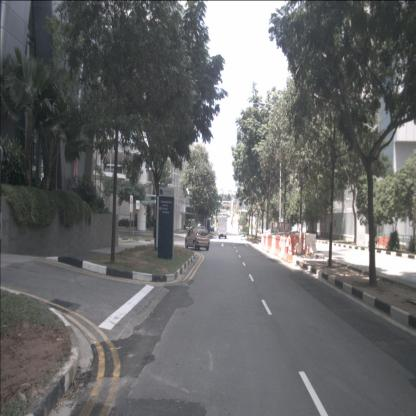barrier: (281, 234, 304, 254), (304, 233, 318, 254), (283, 238, 292, 263), (278, 236, 286, 259), (378, 236, 392, 248), (274, 236, 281, 257), (270, 235, 276, 254), (266, 235, 272, 253), (264, 236, 268, 252), (260, 234, 264, 250), (262, 236, 266, 251)
cone: (288, 245, 293, 264), (286, 243, 290, 262), (305, 240, 310, 254)
